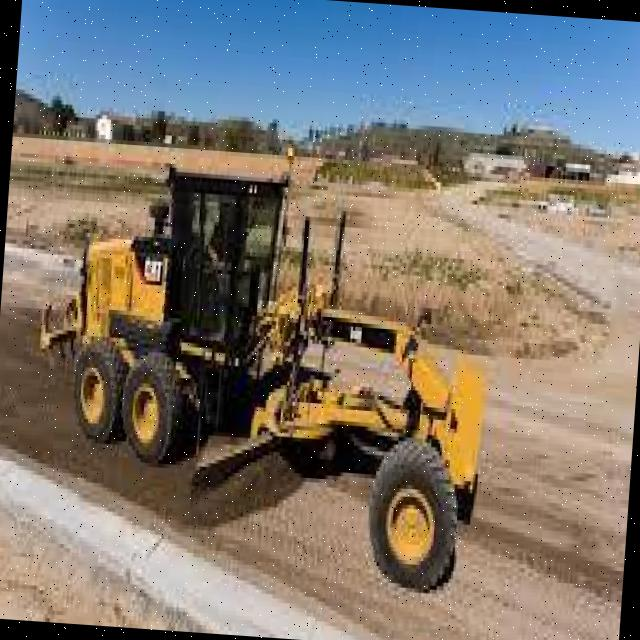Grader: (0, 113, 518, 616)
